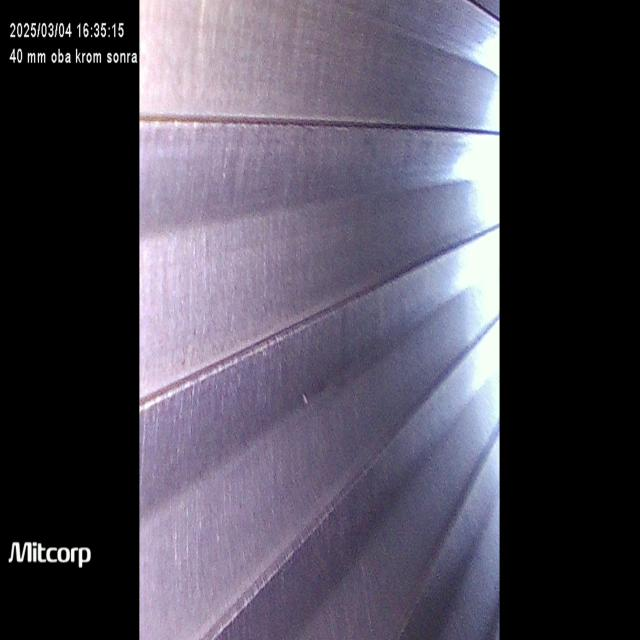hata_8.1: (163, 120, 234, 372), (174, 5, 244, 115)
